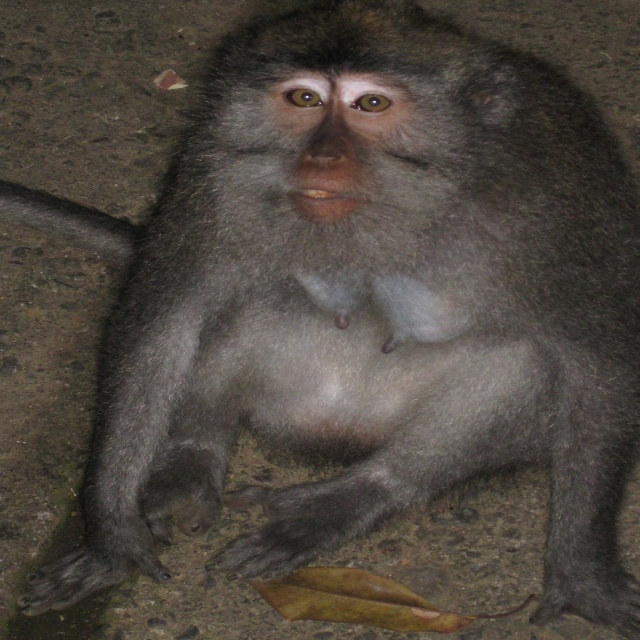Monkey: (37, 16, 621, 623)
